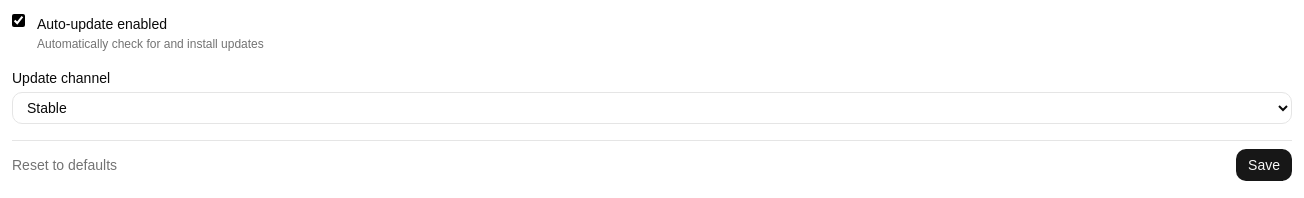
Test: UpdaterPanel › disabling auto-update disables the channel select
This screenshot has width=1304, height=198.
Click the checkbox labelled "Auto-update enabled": (18, 20) [12, 14, 25, 27]
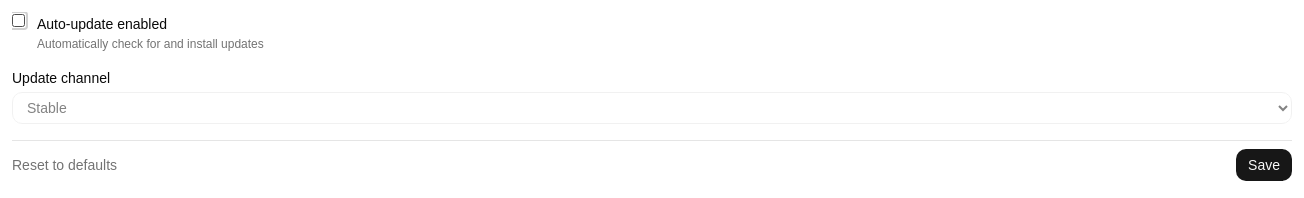
Now the dropdown labelled "Update channel" is disabled, box [12, 92, 1292, 124]
